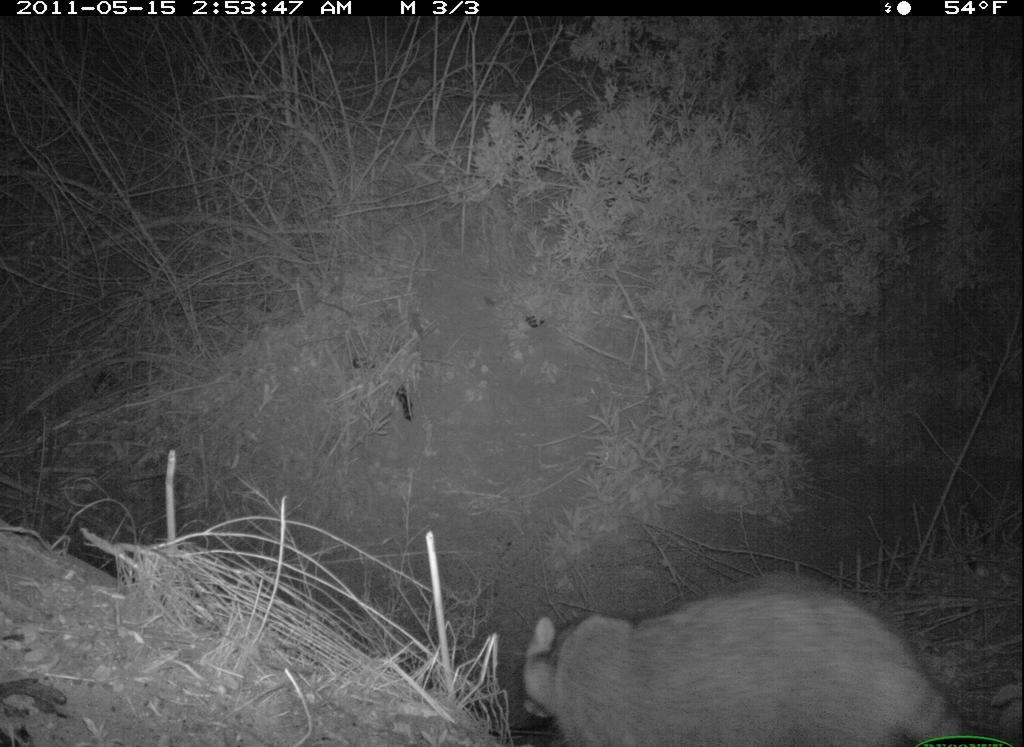raccoon: (500, 577, 978, 747)
